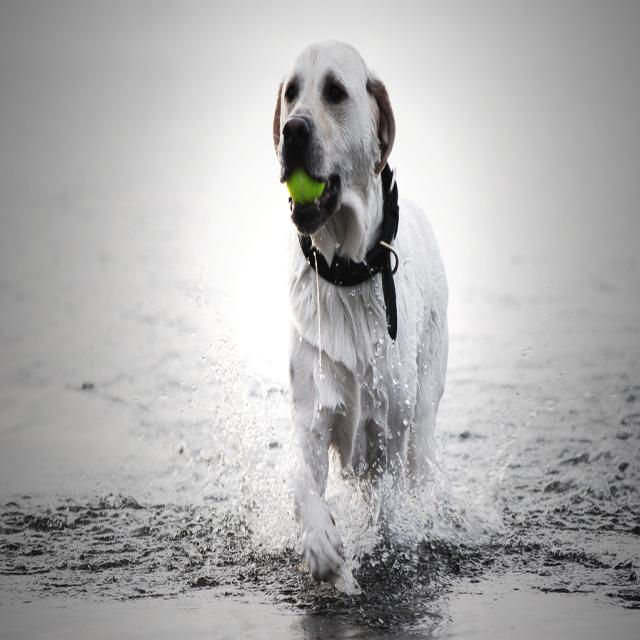Tennis ball: (286, 168, 325, 205)
